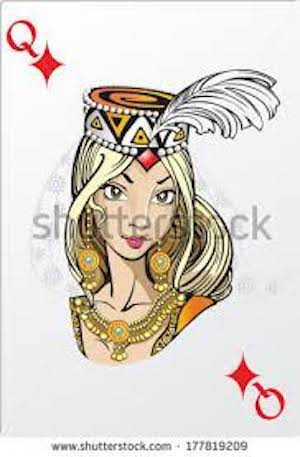QueenOfDiamonds: (2, 8, 299, 432)
